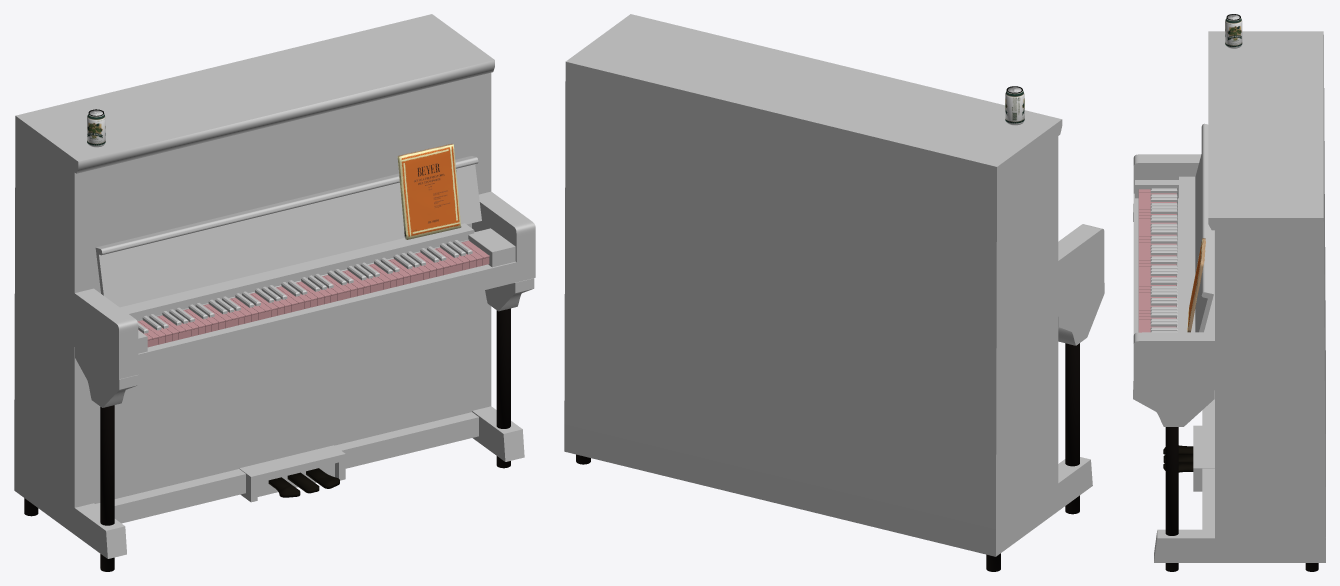
The model's file is piano.obj.
3 views of the same model, side by side, from view 1: azimuth 30°, elevation 25°; view 2: azimuth 150°, elevation 25°; view 3: azimuth 270°, elevation 25° (orthographic). The views are drawn at different scales.
Visible parts, largest first — view 1: Fondamenta_Cube, Coperchio_Cube.002, Fondo_Pedali_Cube.003, Tasti_Bianchi_Cube.001, Frontale_Cube.008, Cube.010, Tasti_Neri_Cube.005, Fondo_Pedali.001_Cube.009, Gamba.002_Cylinder.002, Gamba.001_Cylinder.001, Gambe_Sopra.001_Cylinder.005, Laterale_Cube.007 (+2 smaller); view 2: Fondamenta_Cube, Gamba.002_Cylinder.002, Gambe_Sopra.001_Cylinder.005; view 3: Fondamenta_Cube, Tasti_Neri_Cube.005, Frontale_Cube.008, Coperchio_Cube.002, Tasti_Bianchi_Cube.001, Gambe_Sopra_Cylinder.004, Gamba.001_Cylinder.001, Fondo_Pedali.001_Cube.009, Fondo_Pedali_Cube.003, Cube.010, Lattina_Cylinder, Pedali_Cube.004 (+1 smaller).
Boxes of the visible parts, left/top/right/bottom form: Fondamenta_Cube: left=14, top=14, right=535, bottom=558; Coperchio_Cube.002: left=95, top=156, right=481, bottom=307; Fondo_Pedali_Cube.003: left=95, top=412, right=478, bottom=523; Tasti_Bianchi_Cube.001: left=137, top=240, right=489, bottom=347; Frontale_Cube.008: left=120, top=223, right=474, bottom=320; Cube.010: left=397, top=143, right=461, bottom=239; Tasti_Neri_Cube.005: left=138, top=240, right=472, bottom=333; Fondo_Pedali.001_Cube.009: left=239, top=445, right=345, bottom=502; Gamba.002_Cylinder.002: left=100, top=405, right=114, bottom=571; Gamba.001_Cylinder.001: left=496, top=308, right=510, bottom=468; Gambe_Sopra.001_Cylinder.005: left=75, top=347, right=138, bottom=407; Laterale_Cube.007: left=138, top=228, right=515, bottom=353; Fondamenta_Cube: left=564, top=14, right=1104, bottom=556; Gamba.002_Cylinder.002: left=1065, top=343, right=1079, bottom=514; Gambe_Sopra.001_Cylinder.005: left=1058, top=283, right=1104, bottom=345; Fondamenta_Cube: left=1133, top=31, right=1325, bottom=562; Tasti_Neri_Cube.005: left=1150, top=188, right=1177, bottom=332; Frontale_Cube.008: left=1179, top=176, right=1214, bottom=332; Coperchio_Cube.002: left=1195, top=123, right=1213, bottom=332; Tasti_Bianchi_Cube.001: left=1138, top=189, right=1176, bottom=332; Gambe_Sopra_Cylinder.004: left=1133, top=381, right=1214, bottom=426; Gamba.001_Cylinder.001: left=1165, top=427, right=1178, bottom=571; Fondo_Pedali.001_Cube.009: left=1193, top=425, right=1214, bottom=491; Fondo_Pedali_Cube.003: left=1202, top=390, right=1214, bottom=529; Cube.010: left=1187, top=238, right=1205, bottom=332; Lattina_Cylinder: left=1225, top=17, right=1242, bottom=48; Pedali_Cube.004: left=1163, top=445, right=1193, bottom=472.
Bounding box in the file's own units: 6.5 × 6.35 × 2.84.
